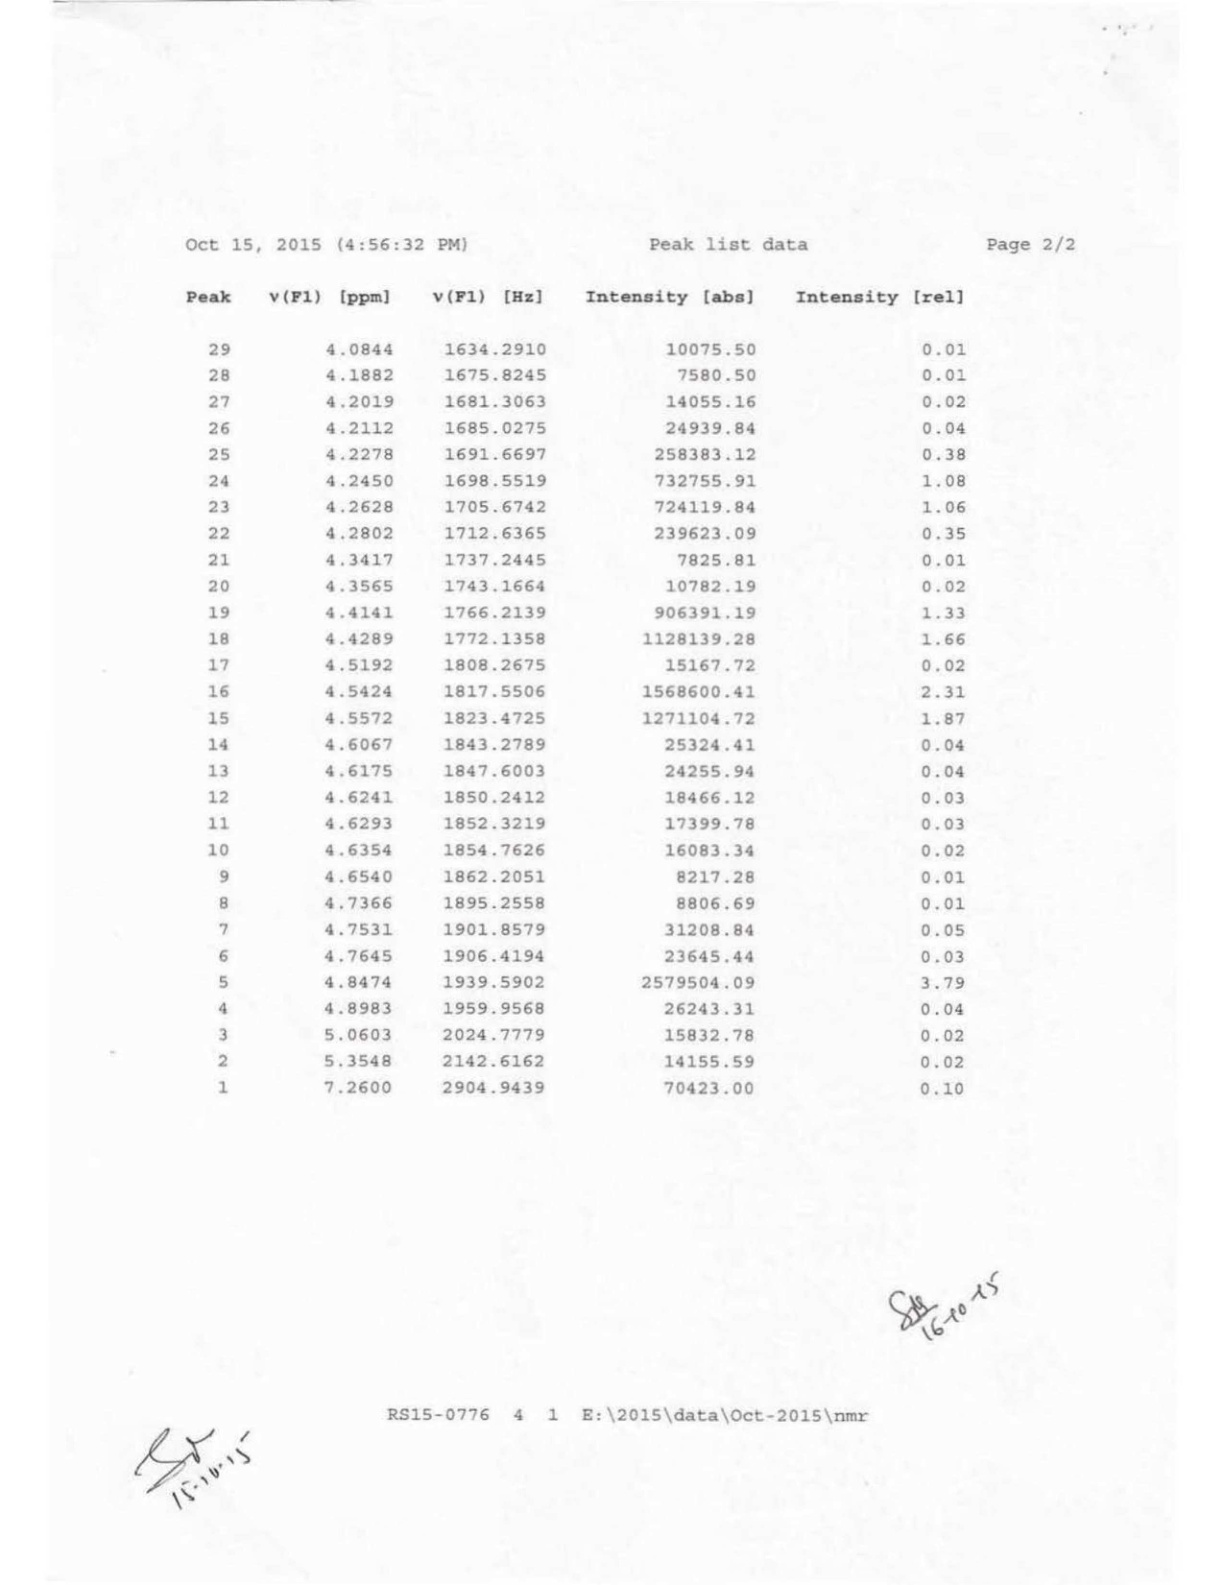nolines: (183, 285, 971, 1098)
